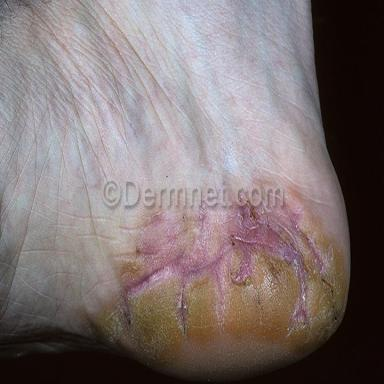eczema: (101, 206, 347, 374)
